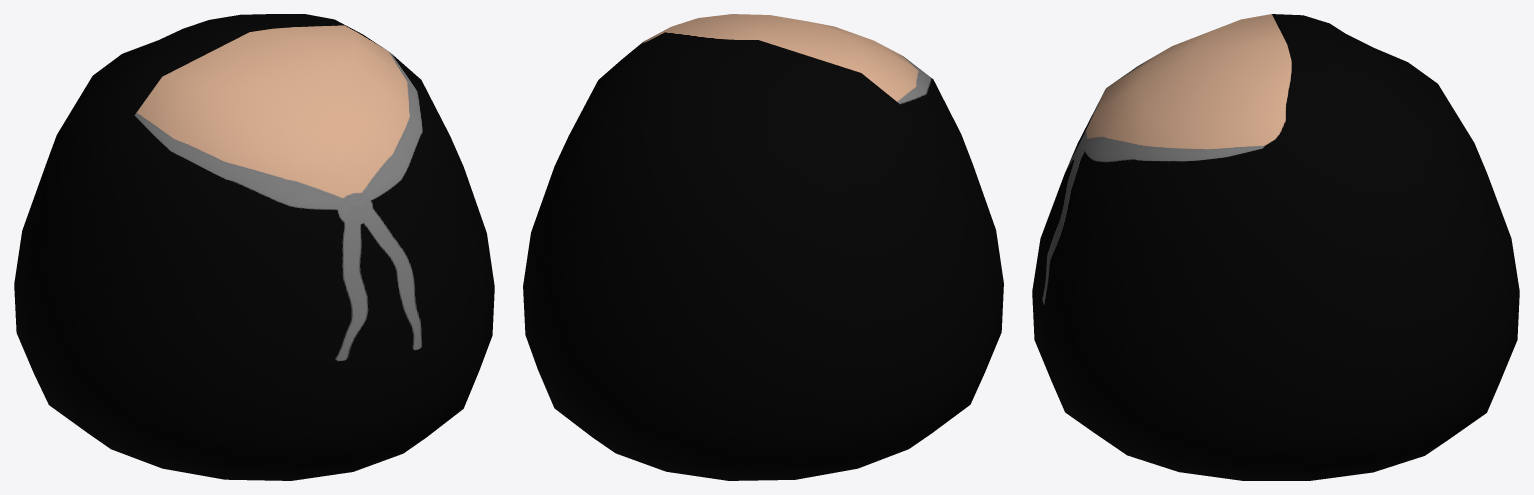
File: crowleyBody.glb
3 views of the same model, side by side, from view 1: azimuth 30°, elevation 25°; view 2: azimuth 150°, elevation 25°; view 3: azimuth 270°, elevation 25° (orthographic).
Parts seen in each view (by area): view 1: Sphere; view 2: Sphere; view 3: Sphere.
Part boxes in pixels (x1,y1,x2,y2): Sphere: (14, 14, 494, 480); Sphere: (523, 14, 1003, 480); Sphere: (1032, 14, 1519, 480).
Bounding box in the file's own units: 0.9504 × 0.8574 × 0.9967.
1 material, 1 textured.
